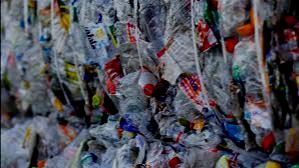Plastic: (173, 132, 215, 161)
